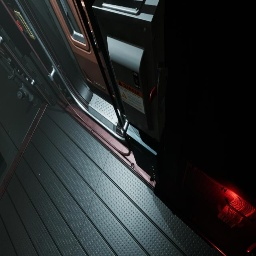EmergencyPhone ,: (8, 3, 36, 40)
FireAlarm ,: (6, 6, 24, 31)
FireExtinguisher ]: (247, 242, 256, 256)
SafetySwitchPanel ,: (92, 0, 168, 144)
